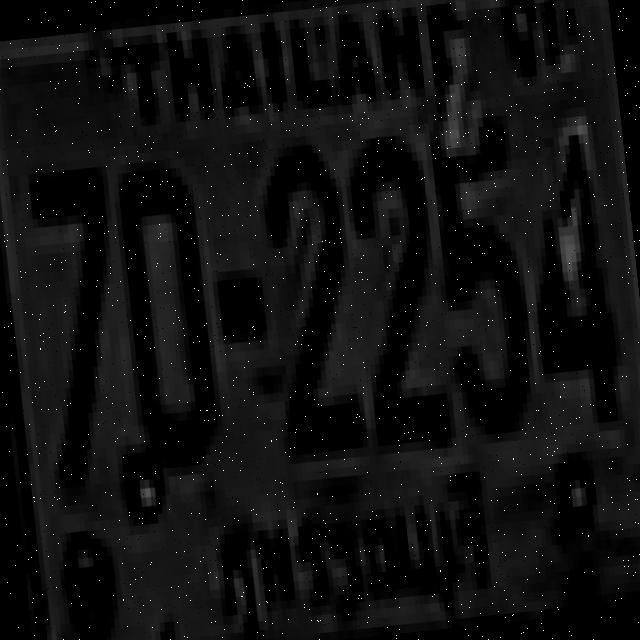0: (111, 158, 225, 482)
2: (256, 137, 362, 450), (341, 128, 446, 442)
4: (512, 115, 617, 419)
5: (422, 110, 534, 432)
7: (24, 158, 132, 488)
SuphanBuri: (199, 457, 504, 640)
